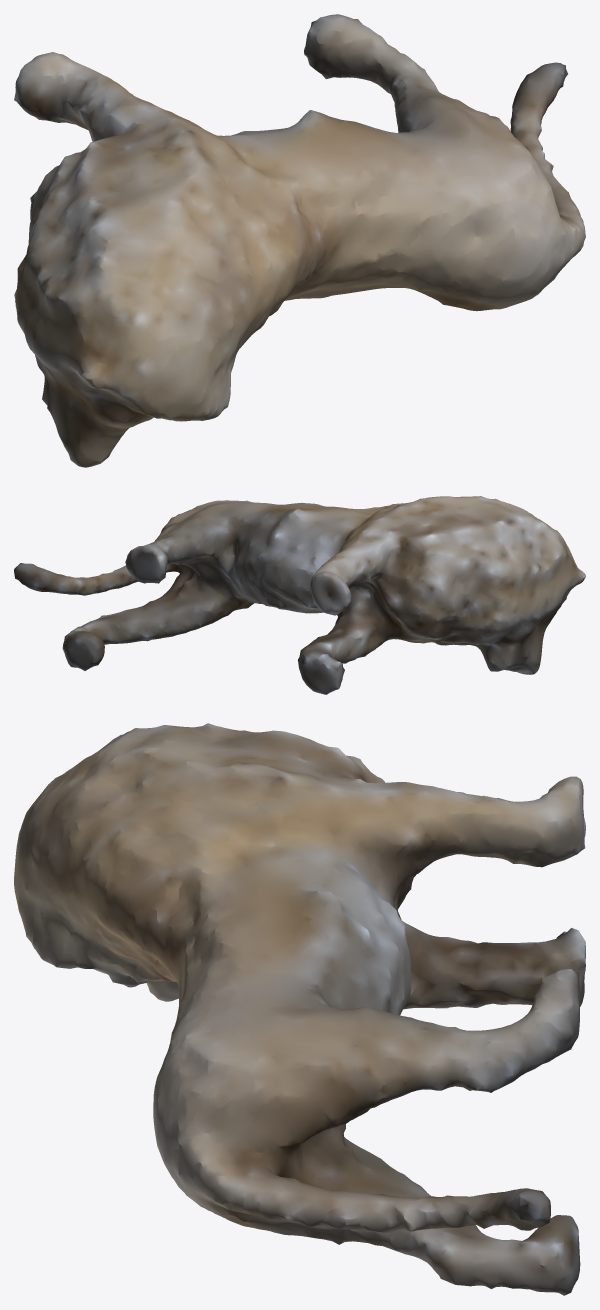
Rendered from lion.glb.
3 renders of one model, top to bottom at view 1: azimuth 30°, elevation 25°; view 2: azimuth 150°, elevation 25°; view 3: azimuth 270°, elevation 25°, orthographic. The views are drawn at different scales.
Bounding box in the file's own units: 0.9952 × 0.3633 × 0.6171.
